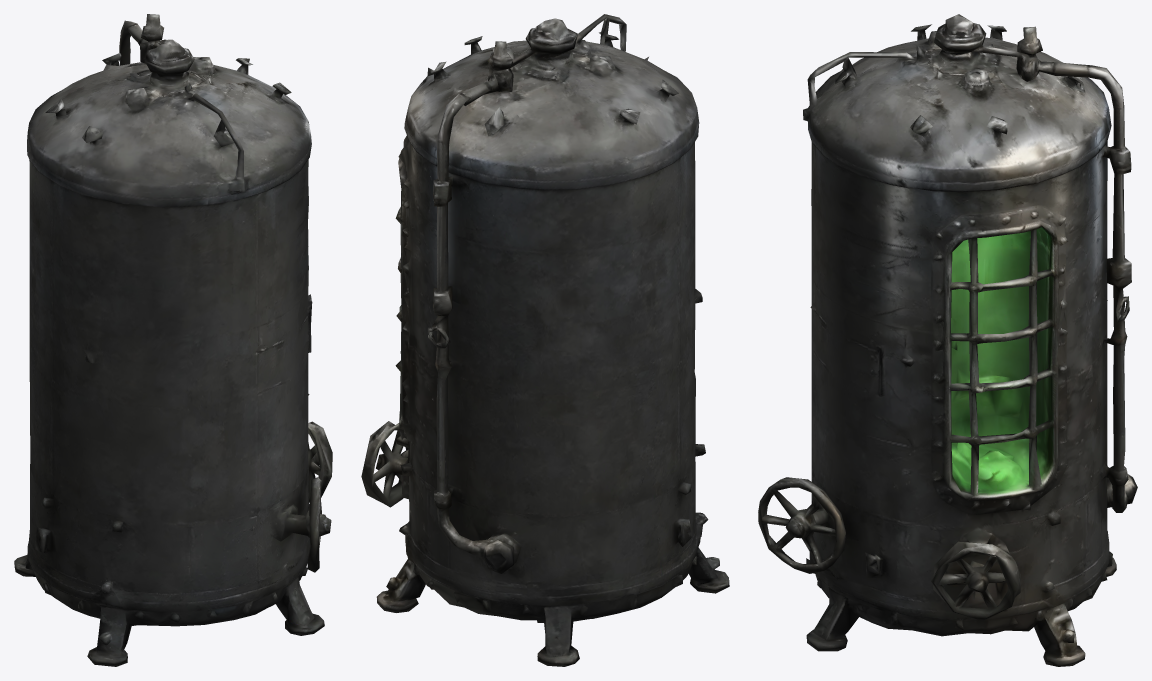
Rendered from xd_biotank.glb.
The picture shows the model from 3 angles, left to right: view 1: azimuth 30°, elevation 25°; view 2: azimuth 150°, elevation 25°; view 3: azimuth 270°, elevation 25°; orthographic projection. The views are drawn at different scales.
Parts seen in each view (by area): view 1: tripo_node_8341c86f-fee9-4491-a2c2-96e4d9cee82d; view 2: tripo_node_8341c86f-fee9-4491-a2c2-96e4d9cee82d; view 3: tripo_node_8341c86f-fee9-4491-a2c2-96e4d9cee82d.
Boxes of the visible parts, x1=… form: tripo_node_8341c86f-fee9-4491-a2c2-96e4d9cee82d: x1=14, y1=14, x2=332, y2=666; tripo_node_8341c86f-fee9-4491-a2c2-96e4d9cee82d: x1=361, y1=14, x2=729, y2=666; tripo_node_8341c86f-fee9-4491-a2c2-96e4d9cee82d: x1=758, y1=14, x2=1137, y2=666.
Bounding box in the file's own units: 0.5533 × 1 × 0.5837.
Materials: 1 (1 with a texture image).
